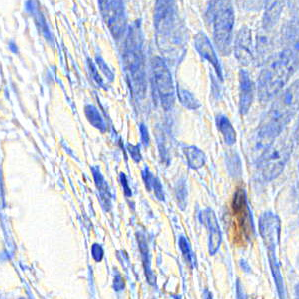Lymphocyte: (224, 185, 255, 247)
